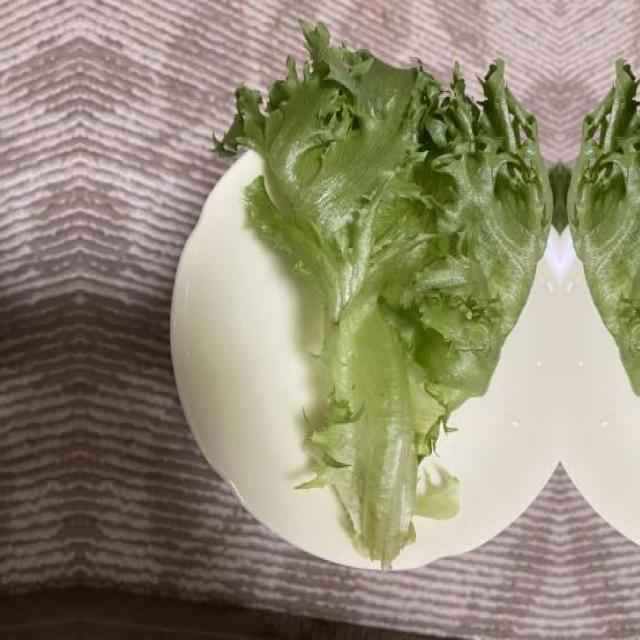healthy: (223, 26, 559, 564), (561, 25, 640, 564)
